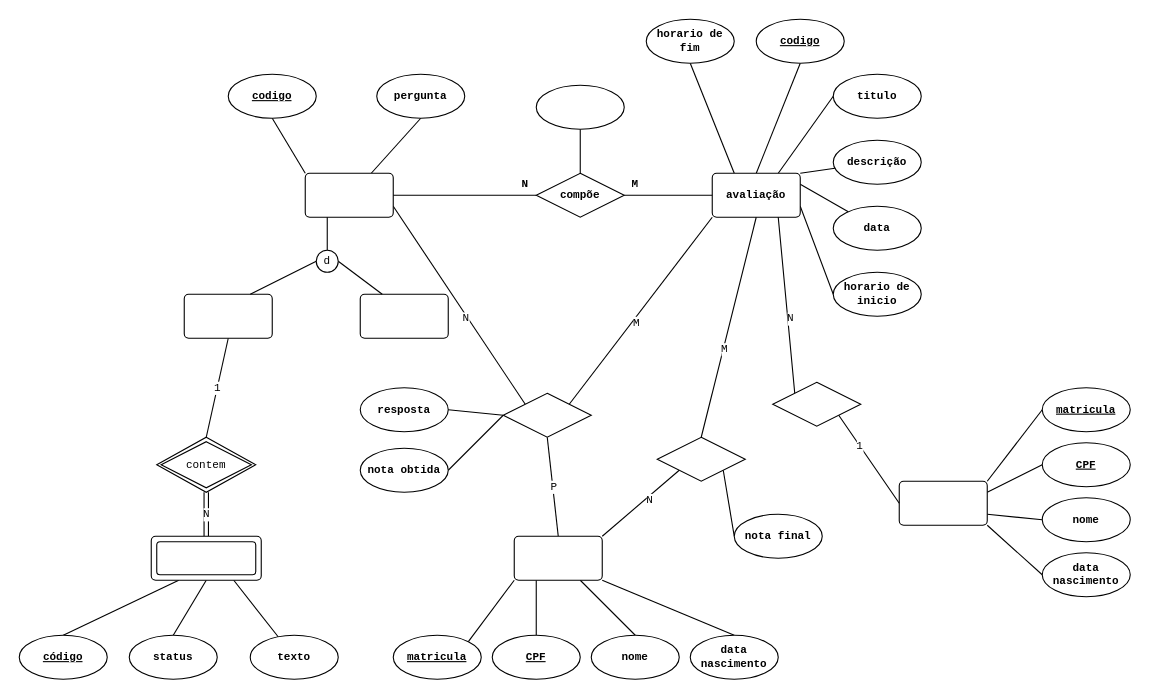
The diagram is 1150 pixels wide and 699 high, and some of its shapes have lost their labels. Here are the shapes that lost their labels. From the top down, the centre of each, then its label:
At point 579,106: "valor".
At point 348,194: "questão".
At point 227,315: "objetiva".
At point 403,315: "livre".
At point 546,414: "responde".
At point 816,403: "elabora".
At point 700,458: "faz".
At point 942,502: "professor".
At point 205,557: "alternativa".
At point 557,557: "aluno".
